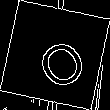O_NW: (23, 22, 87, 88)
